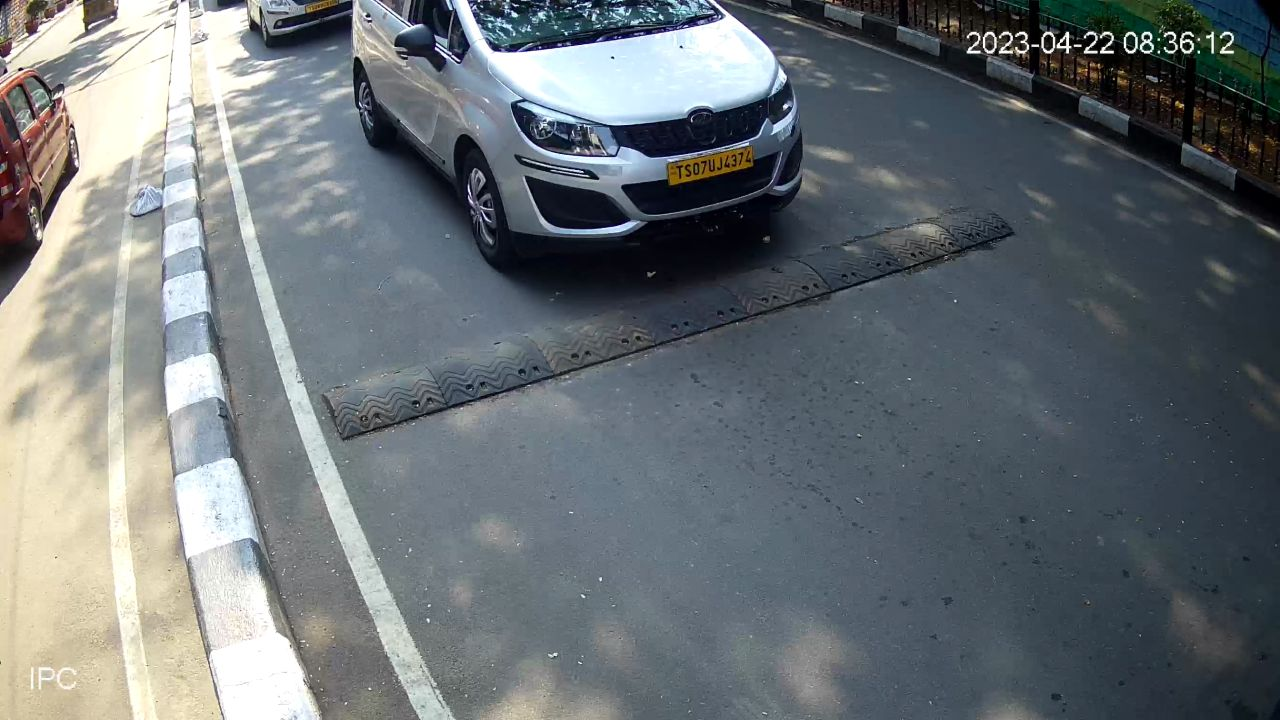license_plate: (661, 140, 757, 190)
